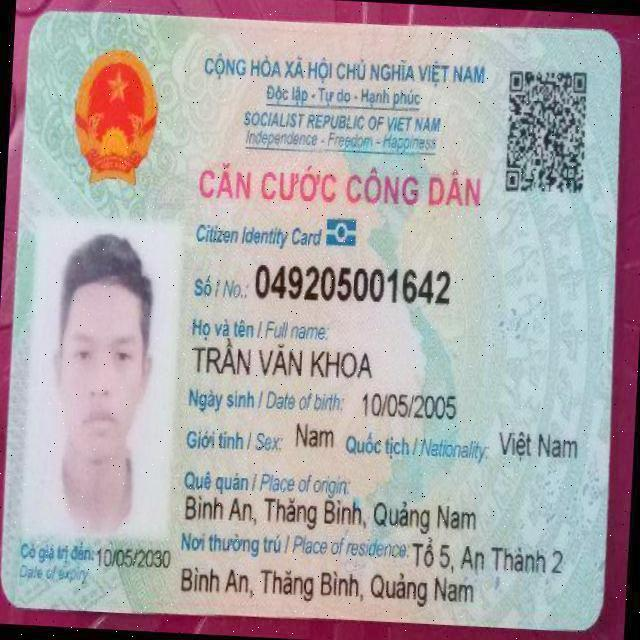current_place: (176, 560, 476, 613), (409, 536, 567, 580)
dob: (361, 389, 460, 424)
expire_date: (96, 544, 174, 573)
gender: (293, 417, 345, 452)
id: (249, 254, 453, 311)
name: (190, 335, 380, 390)
nationality: (491, 417, 583, 465)
origin_place: (184, 488, 480, 537)
